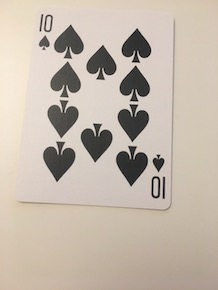TenOfSpades: (11, 5, 178, 215)
